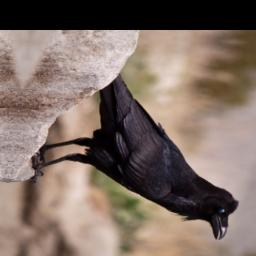Crow: (24, 68, 256, 244)
